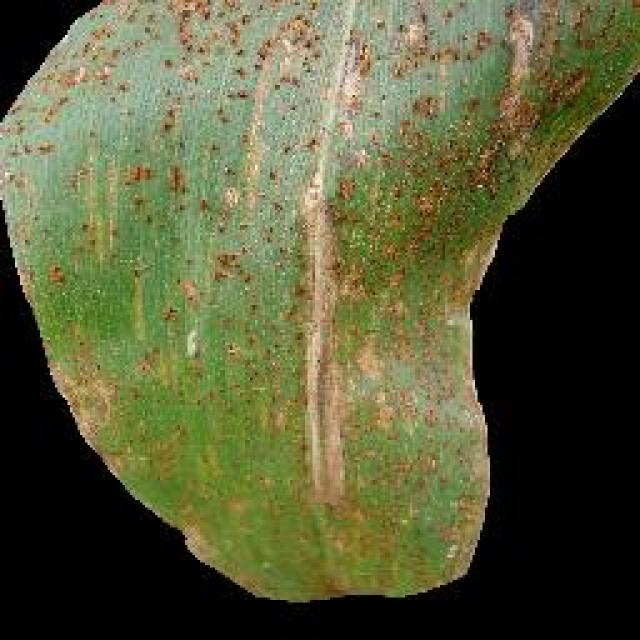Corn Common Rust: (122, 0, 608, 545)
